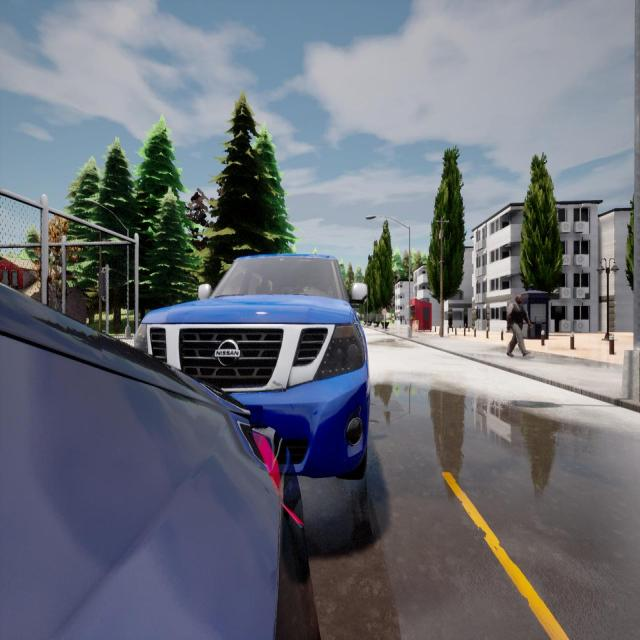Pedestrian: (506, 295, 532, 358)
Traffic_Signs: (382, 309, 386, 315)
Vehicle: (0, 287, 315, 638), (135, 256, 368, 480)
traffic_light: (99, 272, 105, 296)
